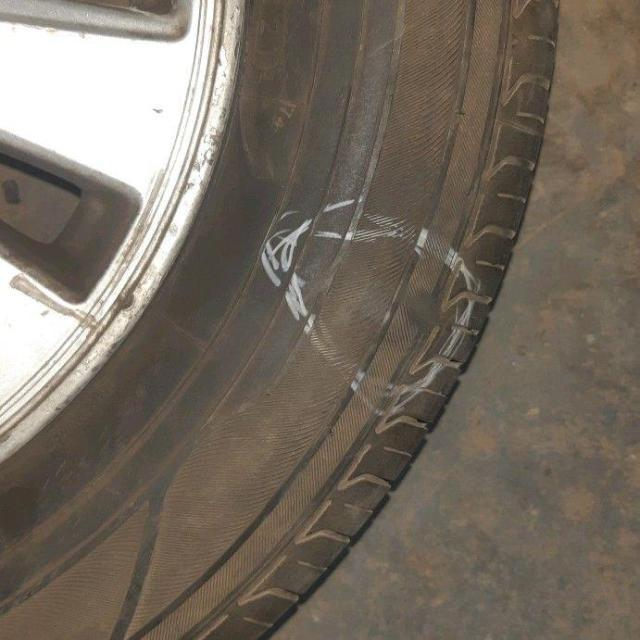Bulge: (311, 229, 458, 394)
